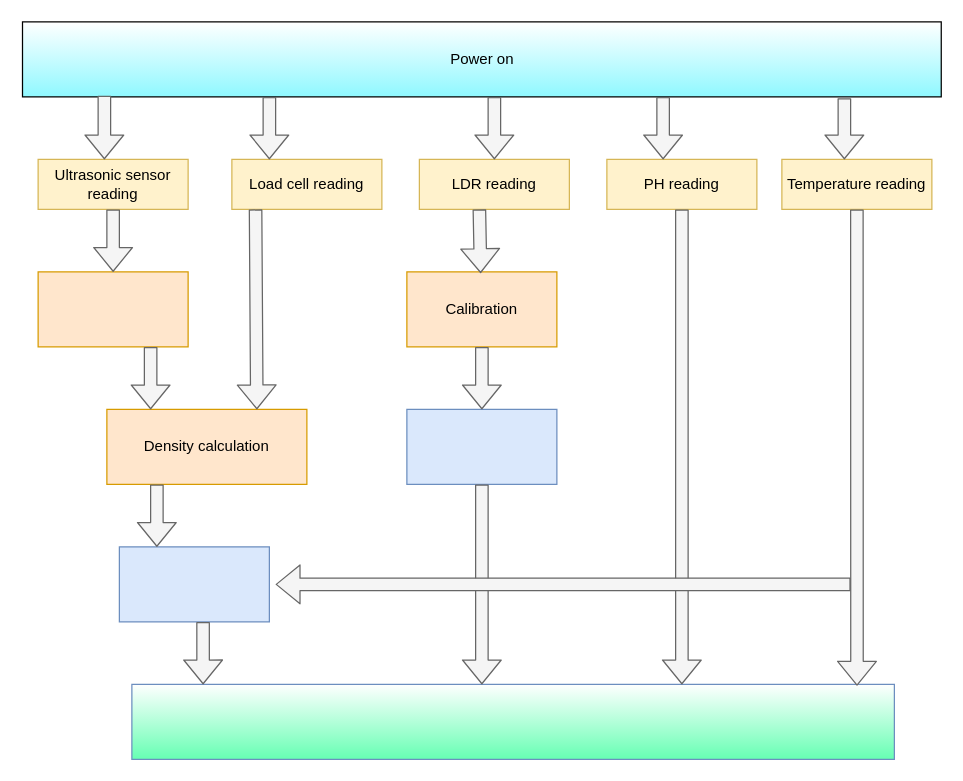
Some shapes in this 963 by 781 pixel diagram are drawn without their labels. The shapes that lost their labels are listed below. From the top down, each one's centre as x and y in pixels, then its label:
At (x=112, y=309): "Milk volume calculation".
At (x=481, y=446): "Fat-rate".
At (x=193, y=584): "Corrected Density".
At (x=512, y=721): "Display".
